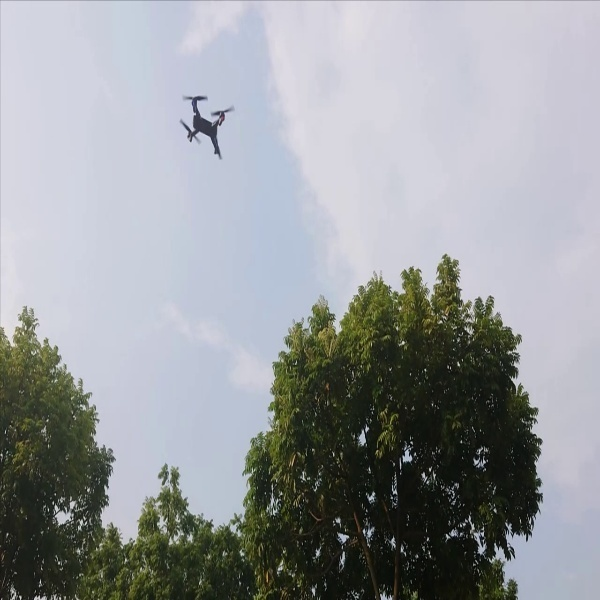drone: (176, 83, 236, 169)
